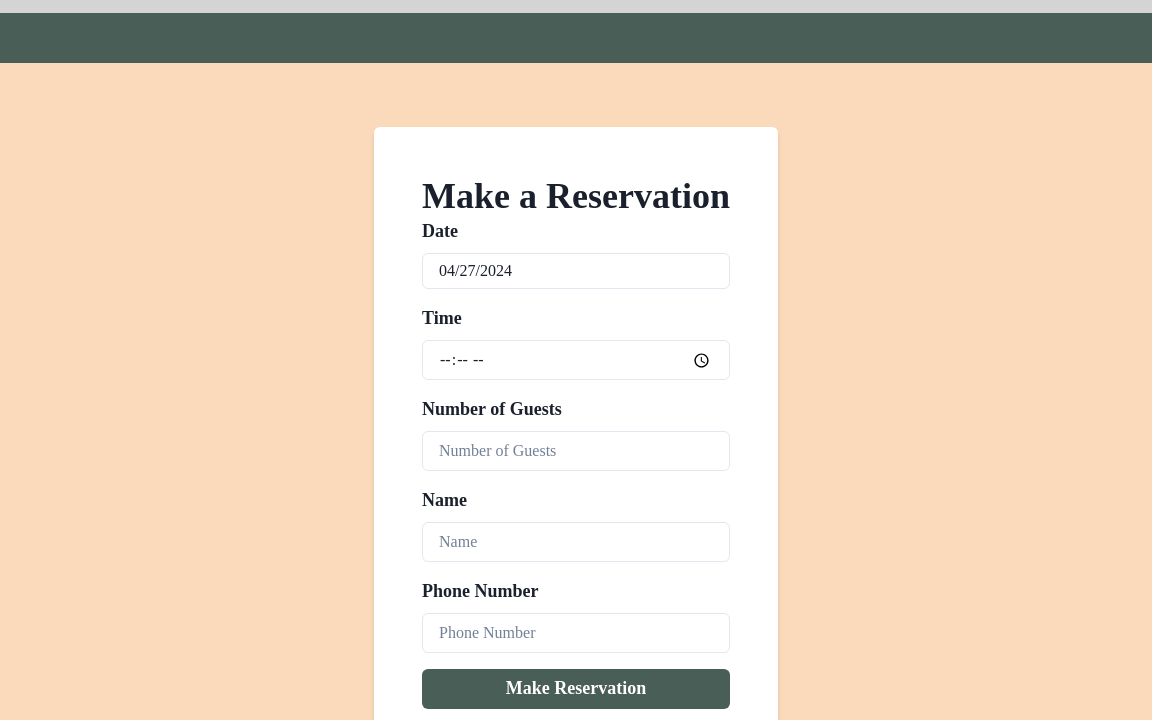
Add text to the inputs and submitt
The width and height of the screenshot is (1152, 720).
(page scrolled)
In the time field with placeholder "Time": (576, 360) x1=422 y1=340 x2=730 y2=380, type "14:30"
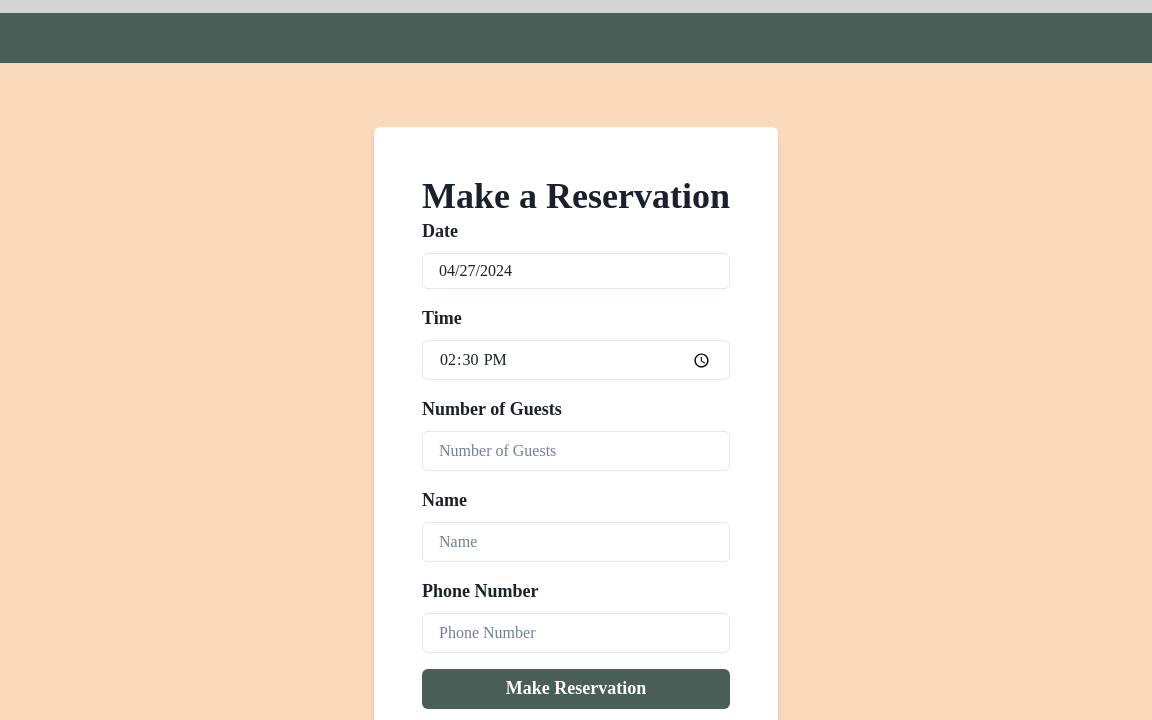
In the number field with placeholder "Number of Guests": (576, 451) x1=422 y1=431 x2=730 y2=471, type "4"
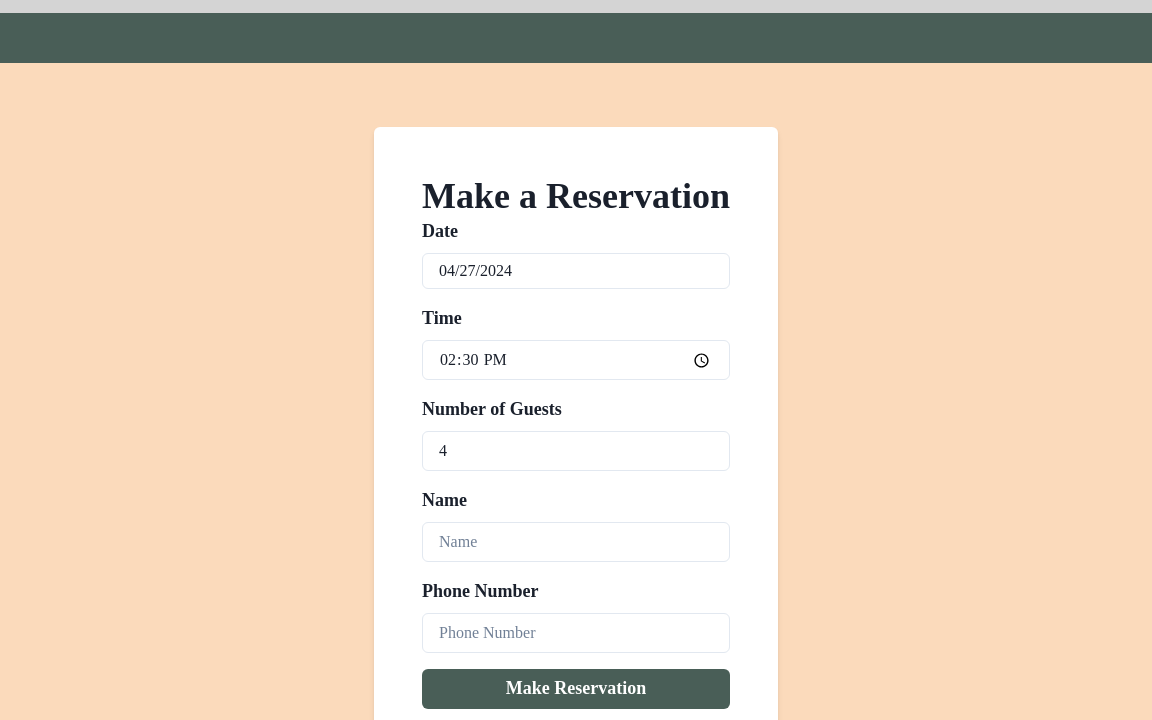
In the field with placeholder "Name": (576, 542) x1=422 y1=522 x2=730 y2=562, type "Joe Smith"
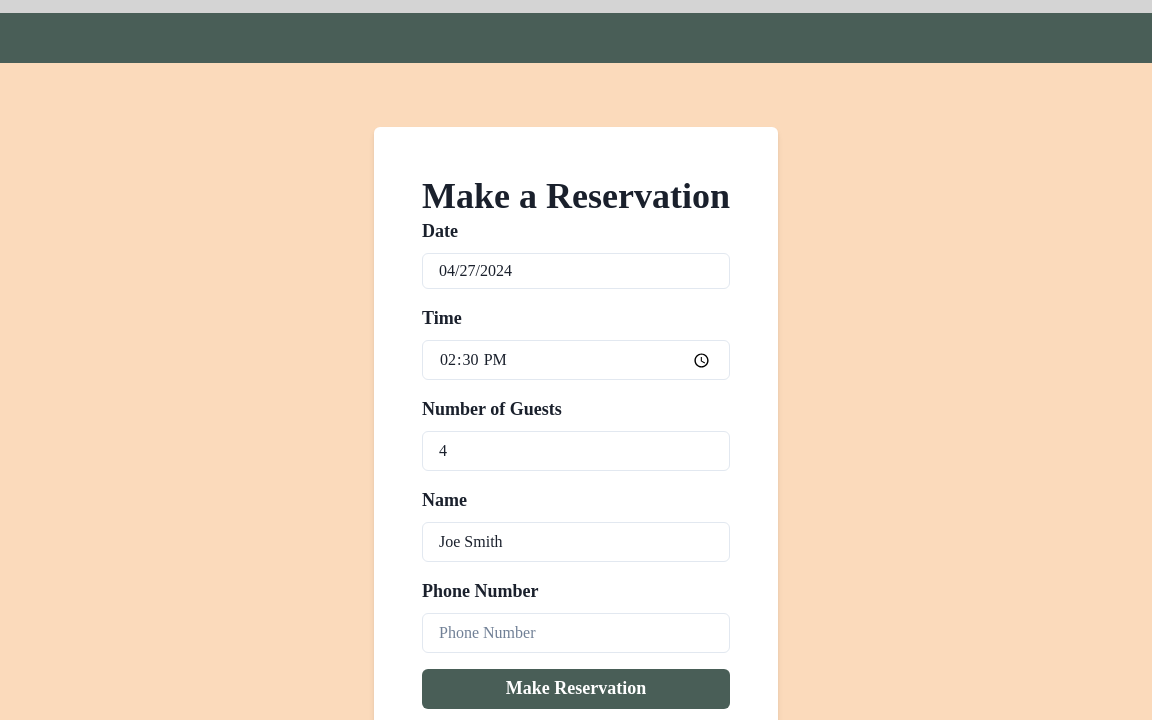
In the field with placeholder "Phone Number": (576, 633) x1=422 y1=613 x2=730 y2=653, type "5555555555"
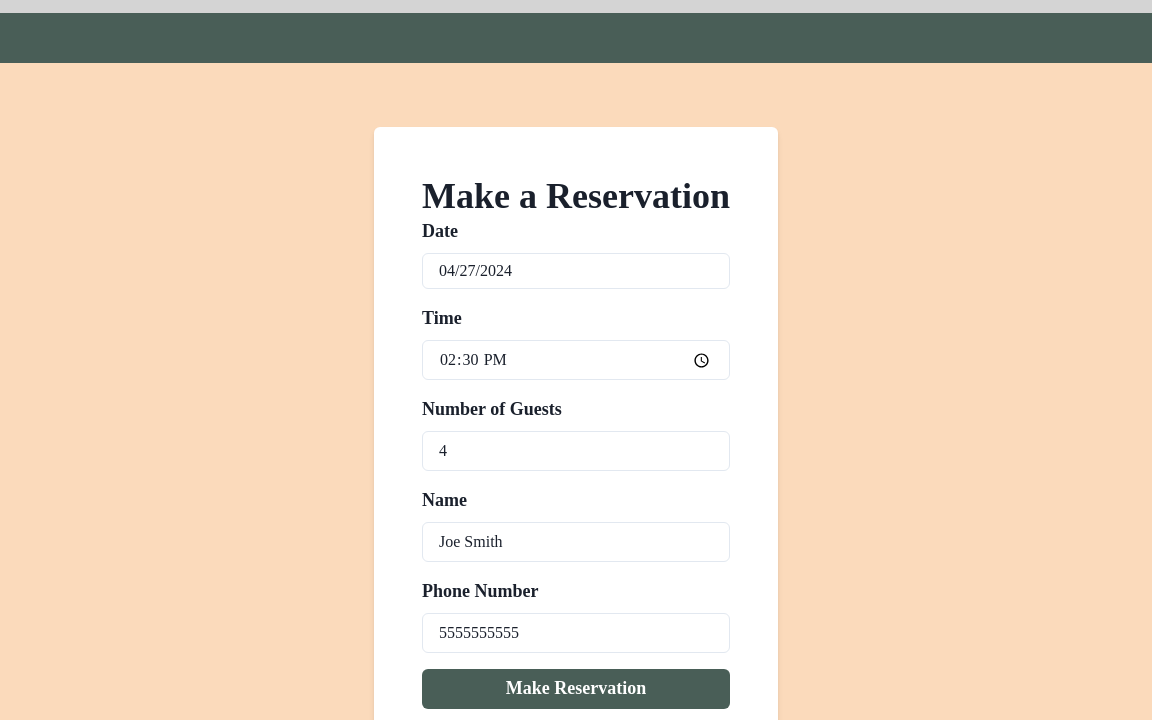
Click the button "Make Reservation": (576, 689) x1=422 y1=669 x2=730 y2=709
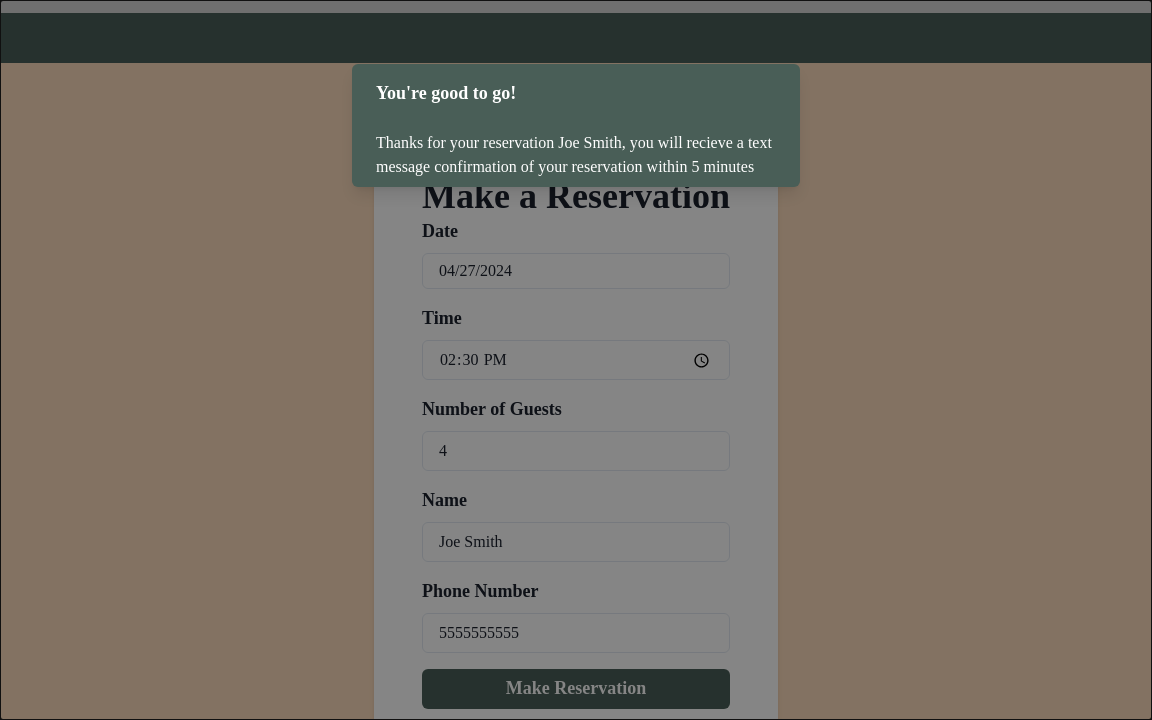
Now the text "You're good to go!" is shown, box x1=376 y1=83 x2=516 y2=103
